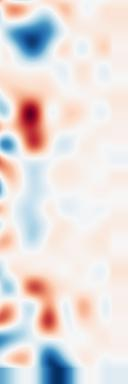filament: (22, 267, 63, 338), (13, 99, 55, 159)
